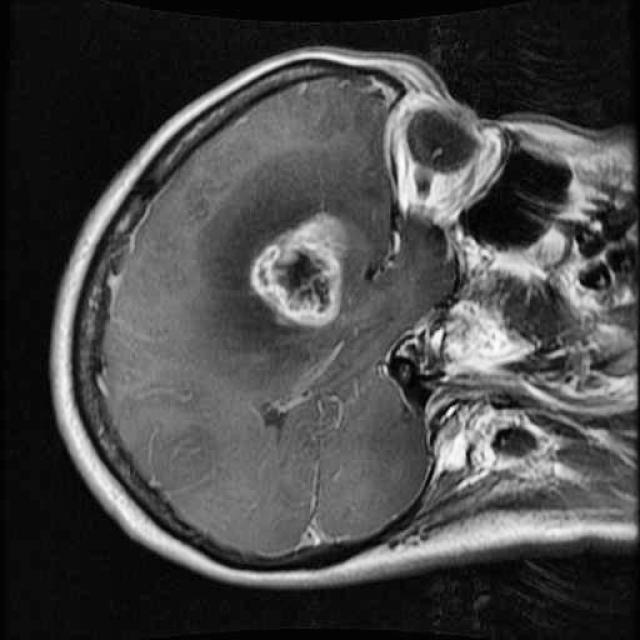Tumor: (238, 196, 363, 342)
